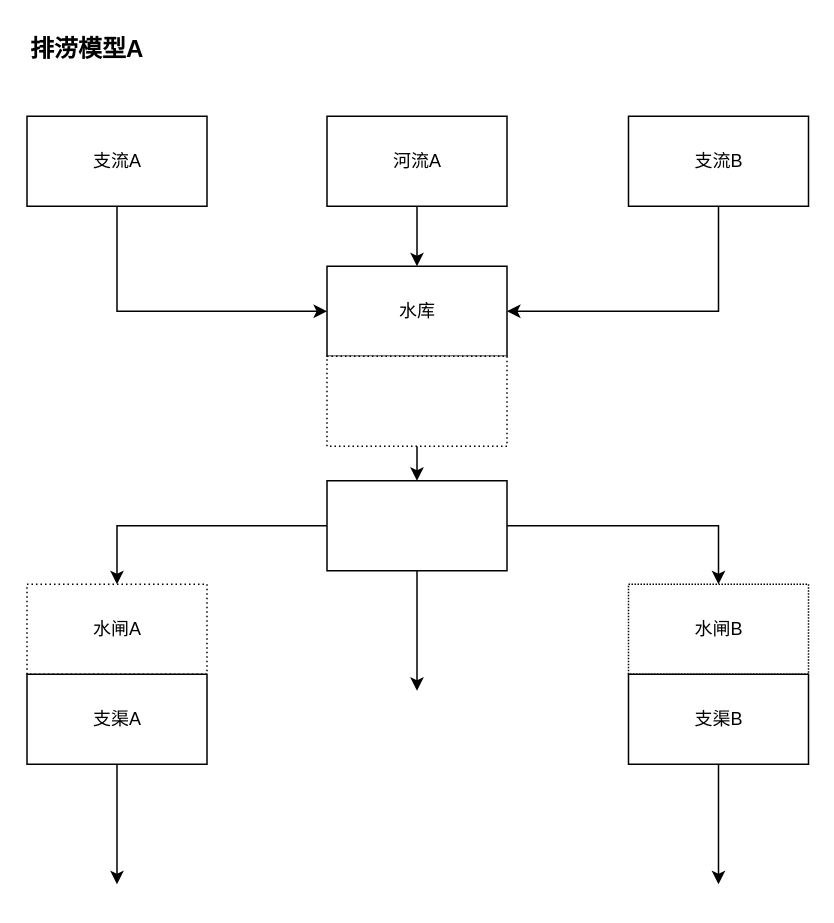
This 834x923 diagram has some shape labels left out. Each missing label, with the centre of its shape:
水库闸门群组A: pixel 416 400
河流: pixel 416 525
